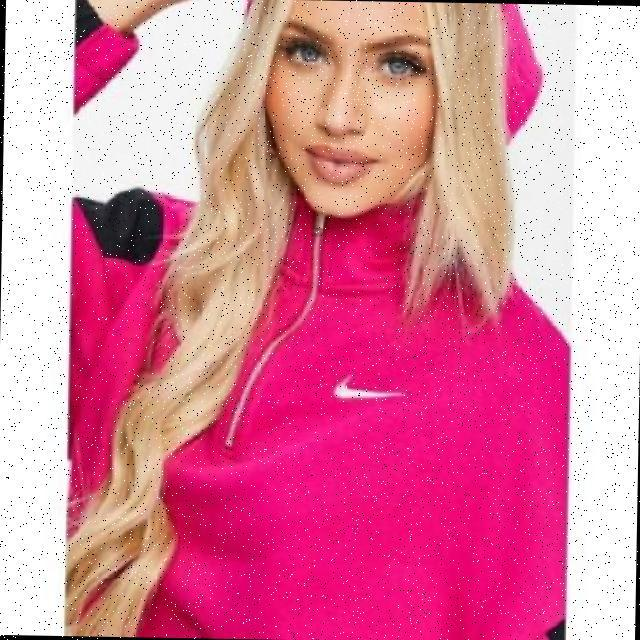Nike: (331, 371, 405, 398)
